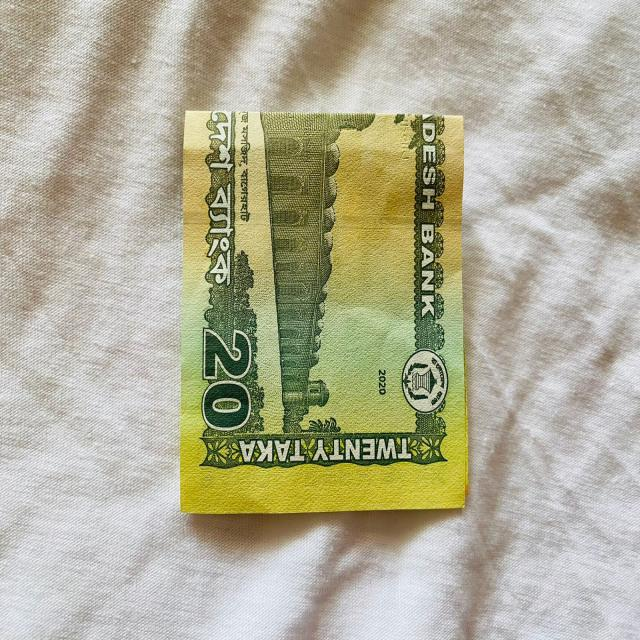Taka: (177, 98, 478, 522)
